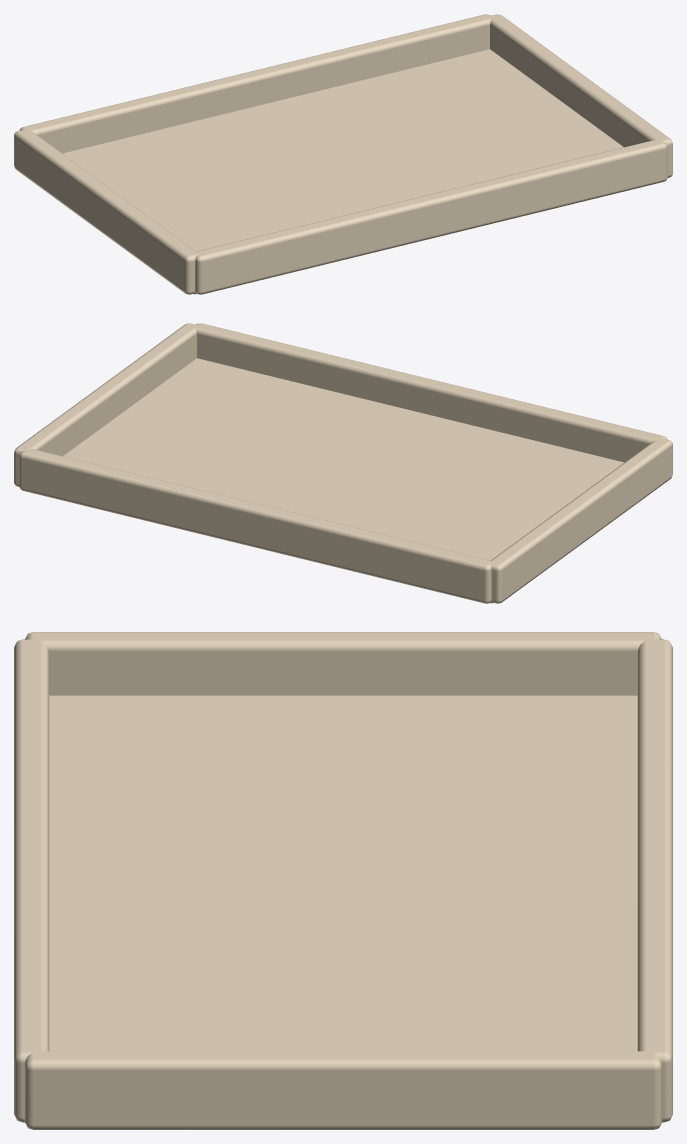
Rendered from tool-tray-v2.glb.
3 views of the same model, one above another, from view 1: azimuth 30°, elevation 25°; view 2: azimuth 150°, elevation 25°; view 3: azimuth 270°, elevation 25° (orthographic). The views are drawn at different scales.
Parts seen in each view (by area): view 1: Tray base, Tray raised side (×2), Tray raised end (×2); view 2: Tray base, Tray raised side (×2), Tray raised end (×2); view 3: Tray base, Tray raised end (×2), Tray raised side (×2).
Part boxes in pixels (bbox=[...]): Tray base: bbox=[62, 49, 623, 294]; Tray raised side (×2): bbox=[19, 14, 667, 294]; Tray raised end (×2): bbox=[14, 14, 672, 294]; Tray base: bbox=[63, 358, 624, 603]; Tray raised side (×2): bbox=[19, 323, 667, 603]; Tray raised end (×2): bbox=[14, 323, 672, 603]; Tray base: bbox=[49, 695, 637, 1051]; Tray raised end (×2): bbox=[24, 632, 662, 1129]; Tray raised side (×2): bbox=[14, 639, 672, 1122].
Size of the model in its own units: 0.725 by 0.0585 by 0.465.
